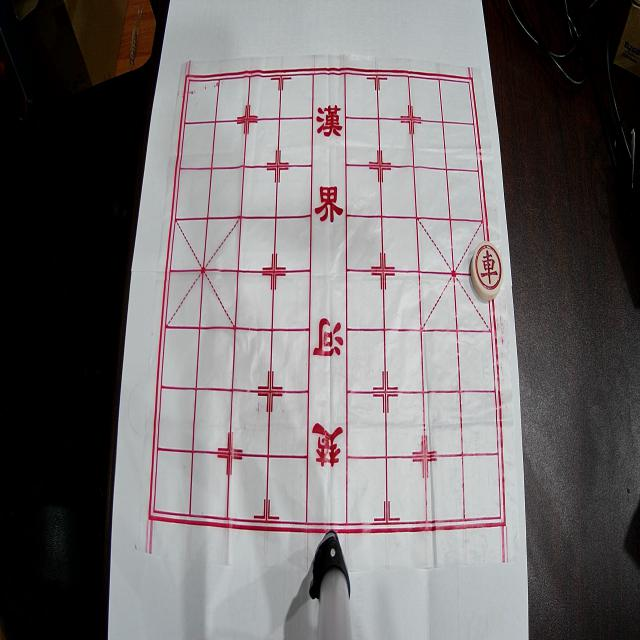red-chariot: (471, 241, 504, 301)
